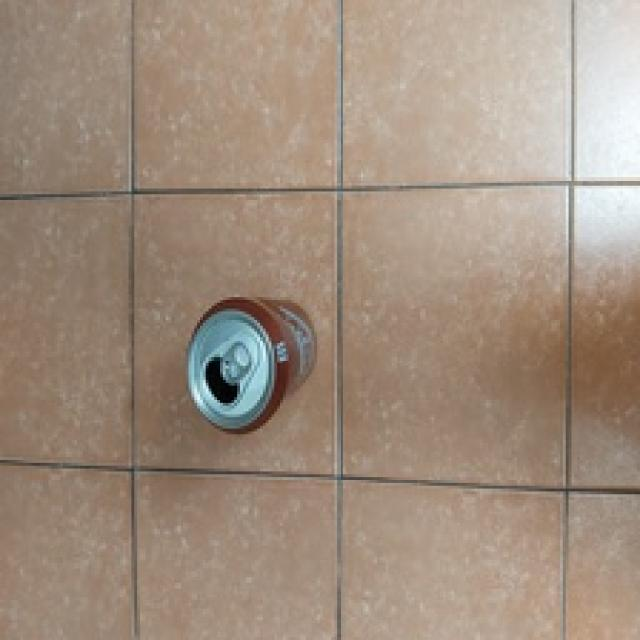recyclable: (184, 296, 320, 436)
